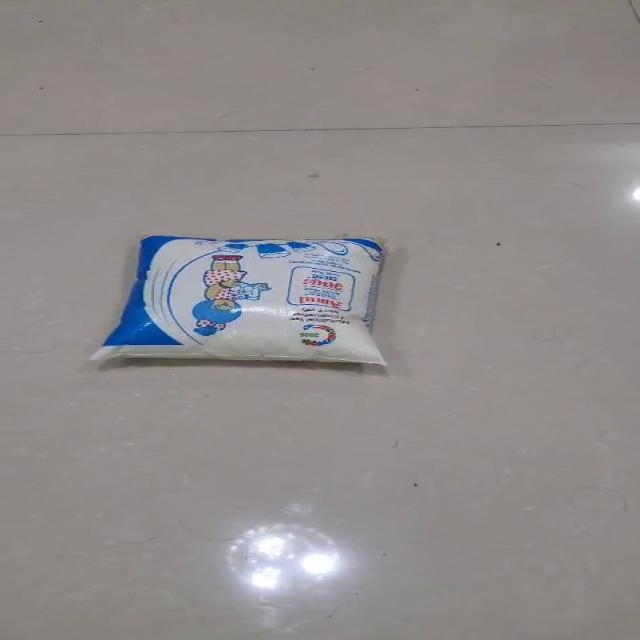plastic: (88, 233, 387, 366)
